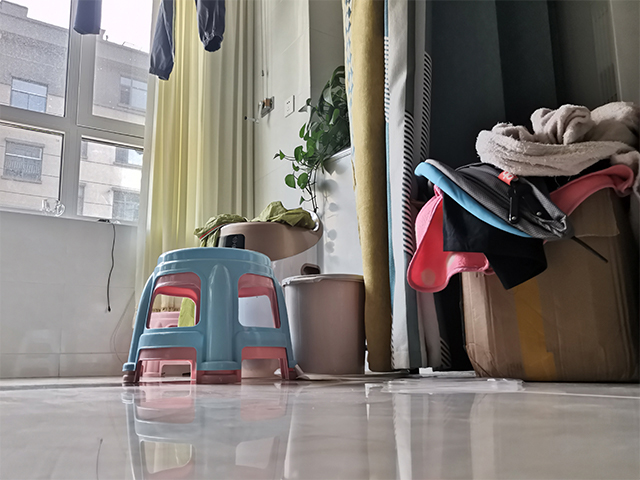curtain: (338, 1, 557, 376), (139, 1, 258, 265)
stool: (118, 246, 300, 387)
trashcan: (278, 270, 370, 379)
